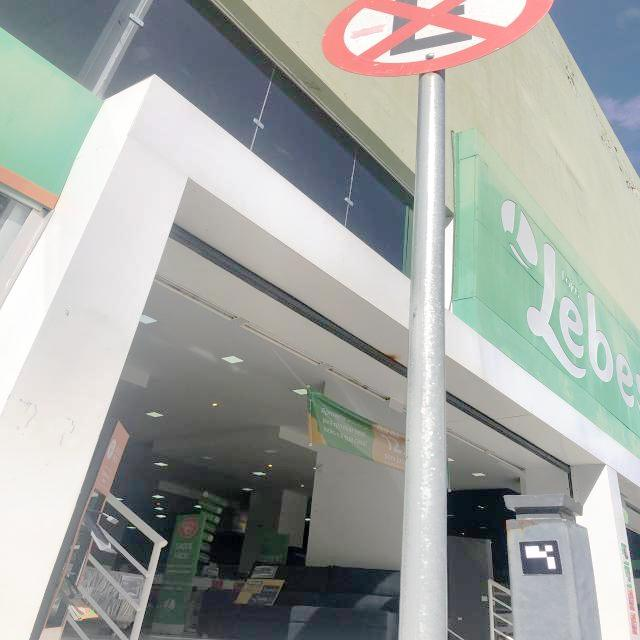Corrosion: (506, 519, 536, 530), (426, 71, 437, 76), (388, 355, 395, 359)
